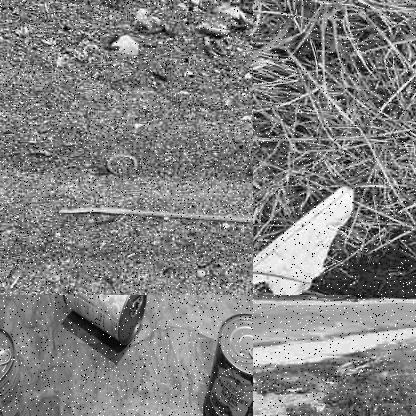metal: (204, 312, 252, 415), (63, 295, 147, 349), (0, 324, 31, 415)
plastic: (253, 190, 354, 294), (59, 202, 252, 230)
